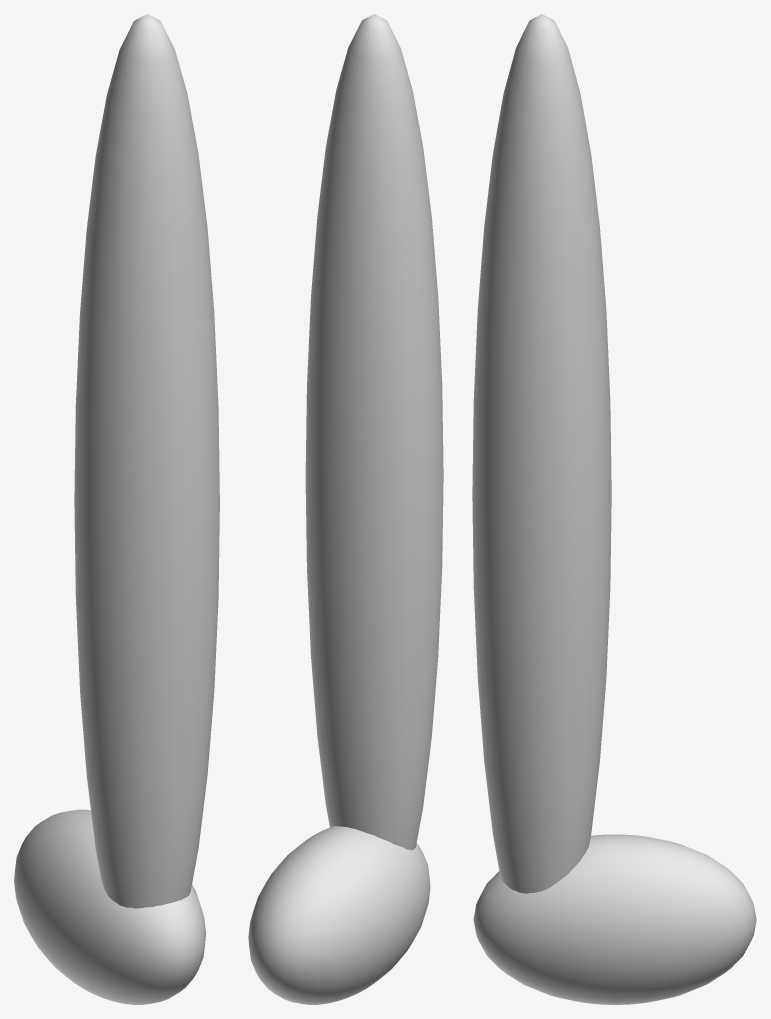
File: goruhukurabu.obj
3 renders of one model, left to right at view 1: azimuth 30°, elevation 25°; view 2: azimuth 150°, elevation 25°; view 3: azimuth 270°, elevation 25°, orthographic. The views are drawn at different scales.
Visible parts, largest first — view 1: 球.001; view 2: 球.001; view 3: 球.001.
Part boxes in pixels (left/top/right/bottom): 球.001: left=14, top=14, right=219, bottom=1004; 球.001: left=248, top=14, right=443, bottom=1004; 球.001: left=472, top=14, right=756, bottom=1004.
Size of the model in its own units: 0.5753 by 4.31 by 1.13.
